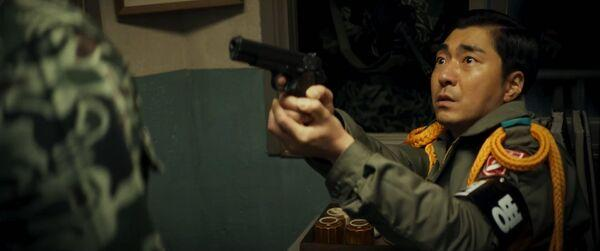Gun: (228, 37, 320, 99)
